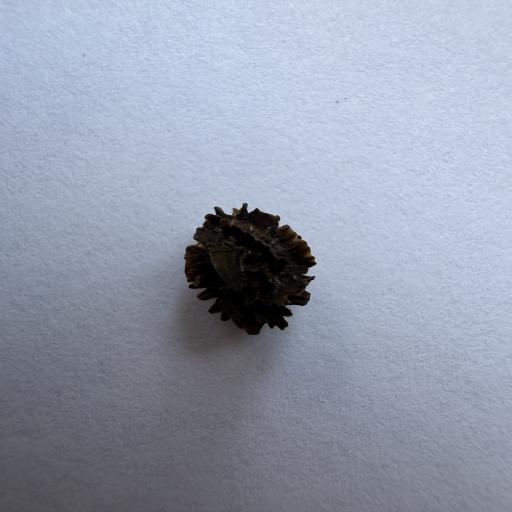papaya_seed: (176, 188, 347, 346)
